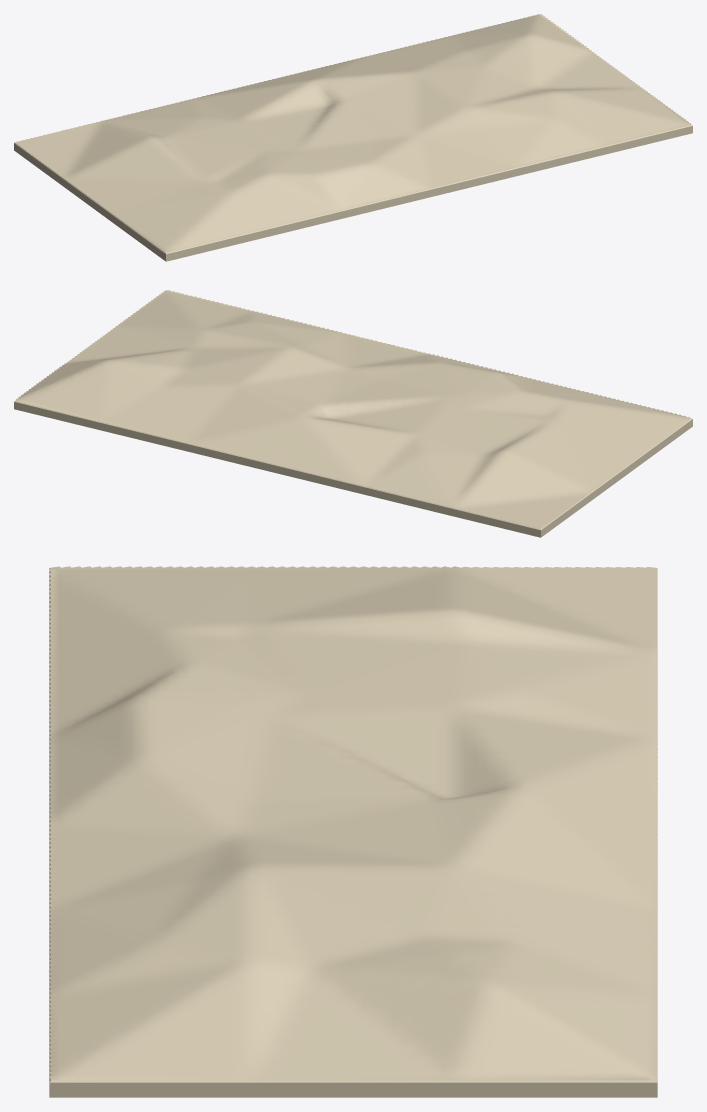
File: mahsulot.glb
3 renders of one model, top to bottom at view 1: azimuth 30°, elevation 25°; view 2: azimuth 150°, elevation 25°; view 3: azimuth 270°, elevation 25°, orthographic. The views are drawn at different scales.
Visible parts, largest first — view 1: mahsulot; view 2: mahsulot; view 3: mahsulot.
Part boxes in pixels (bbox=[...]): mahsulot: bbox=[14, 14, 692, 261]; mahsulot: bbox=[14, 290, 692, 537]; mahsulot: bbox=[49, 566, 657, 1097].
Bounding box in the file's own units: 1 × 0.0552 × 0.5.
